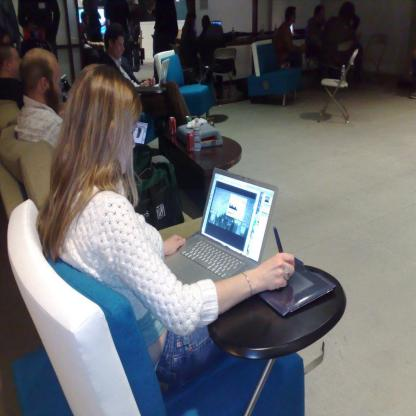board: (163, 165, 278, 285), (135, 58, 169, 96), (133, 121, 151, 164), (194, 118, 201, 151), (187, 133, 194, 152), (169, 117, 176, 135), (341, 65, 346, 85), (186, 116, 192, 123)
